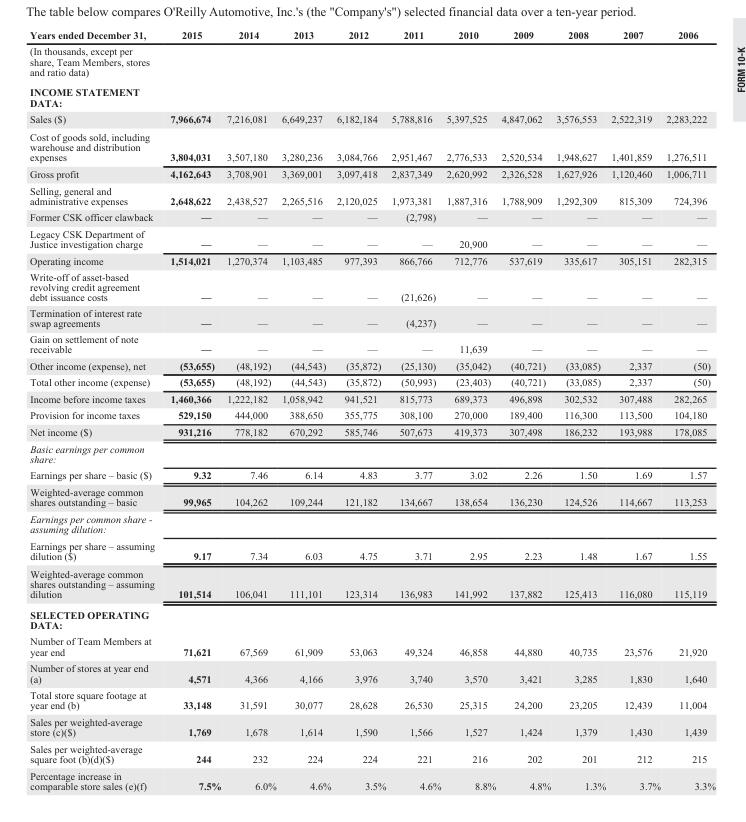table: (29, 28, 715, 791)
table column: (29, 28, 161, 791), (161, 28, 223, 791), (223, 28, 278, 791), (278, 28, 333, 791), (333, 28, 388, 791), (388, 28, 443, 791), (497, 28, 552, 791), (552, 28, 607, 791), (607, 28, 662, 791), (443, 28, 497, 791), (662, 28, 715, 791)
table column header: (29, 28, 715, 42)
table projected row header: (29, 42, 715, 81), (29, 81, 715, 110), (29, 604, 715, 632), (29, 439, 715, 466), (29, 510, 715, 536)
table row: (29, 564, 715, 604), (29, 42, 715, 81), (29, 127, 715, 165), (29, 268, 715, 304), (29, 81, 715, 110), (29, 536, 715, 564), (29, 604, 715, 632), (29, 181, 715, 208), (29, 225, 715, 252), (29, 330, 715, 357), (29, 439, 715, 466), (29, 483, 715, 510), (29, 632, 715, 659), (29, 659, 715, 686), (29, 686, 715, 713), (29, 713, 715, 740), (29, 304, 715, 330), (29, 510, 715, 536), (29, 740, 715, 766), (29, 766, 715, 791), (29, 110, 715, 127), (29, 208, 715, 225), (29, 373, 715, 390), (29, 406, 715, 423), (29, 466, 715, 483), (29, 165, 715, 181), (29, 252, 715, 268), (29, 357, 715, 373), (29, 390, 715, 406), (29, 423, 715, 439), (29, 28, 715, 42)
